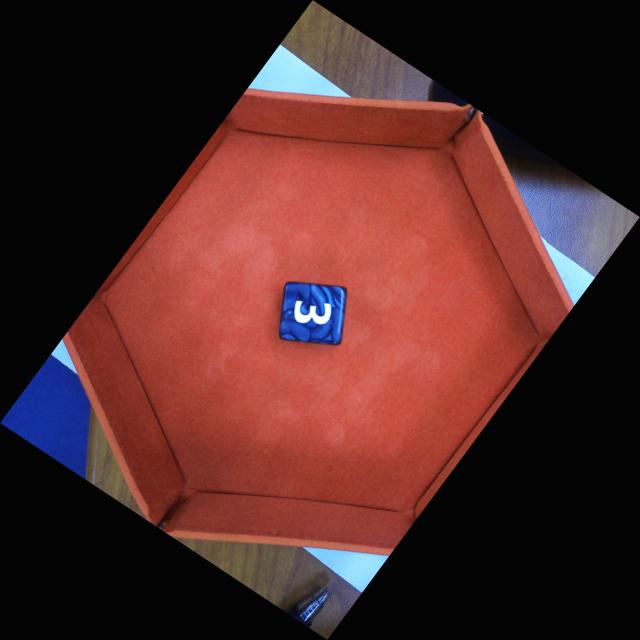dice: (278, 279, 347, 346)
